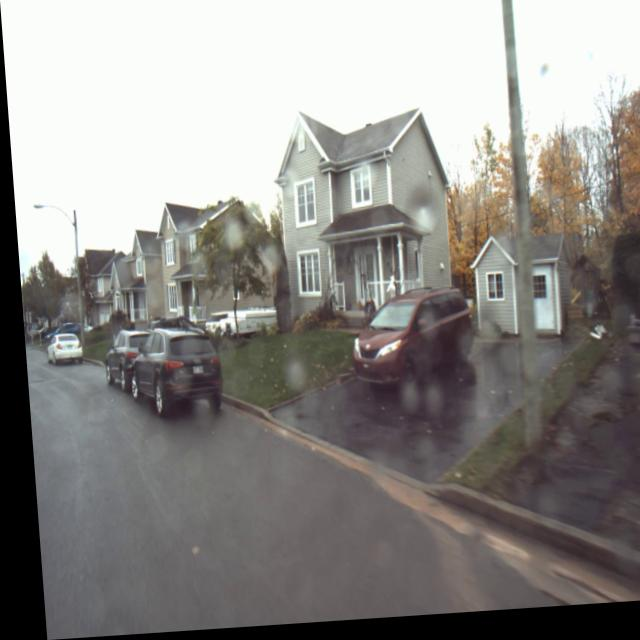car: (125, 322, 215, 427)
